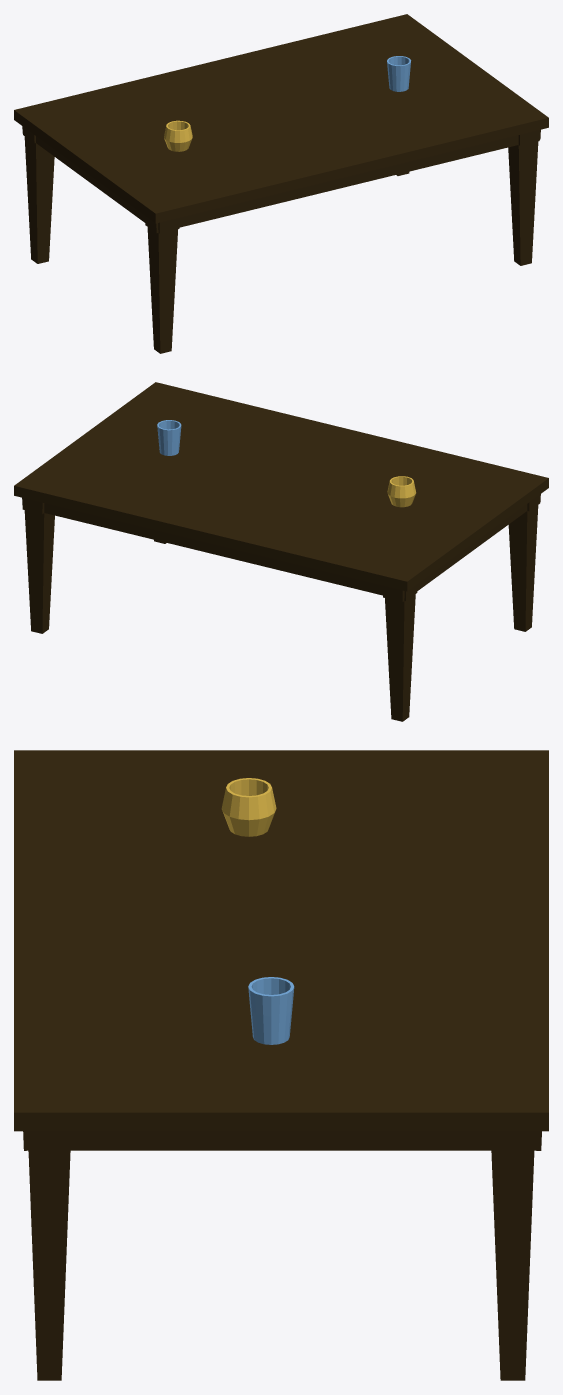
The model's file is table.glb.
The picture shows the model from 3 angles, top to bottom: view 1: azimuth 30°, elevation 25°; view 2: azimuth 150°, elevation 25°; view 3: azimuth 270°, elevation 25°; orthographic projection. The views are drawn at different scales.
Parts seen in each view (by area): view 1: table; view 2: table; view 3: table.
Part boxes in pixels (bbox=[...]): table: bbox=[14, 14, 548, 353]; table: bbox=[14, 382, 548, 721]; table: bbox=[14, 750, 548, 1380].
Size of the model in its own units: 2.4 by 1.02 by 1.5.
